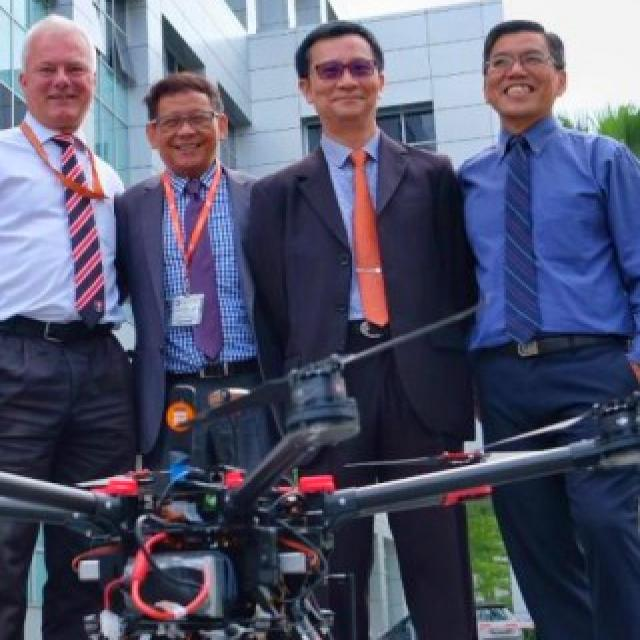drone: (0, 338, 640, 596)
